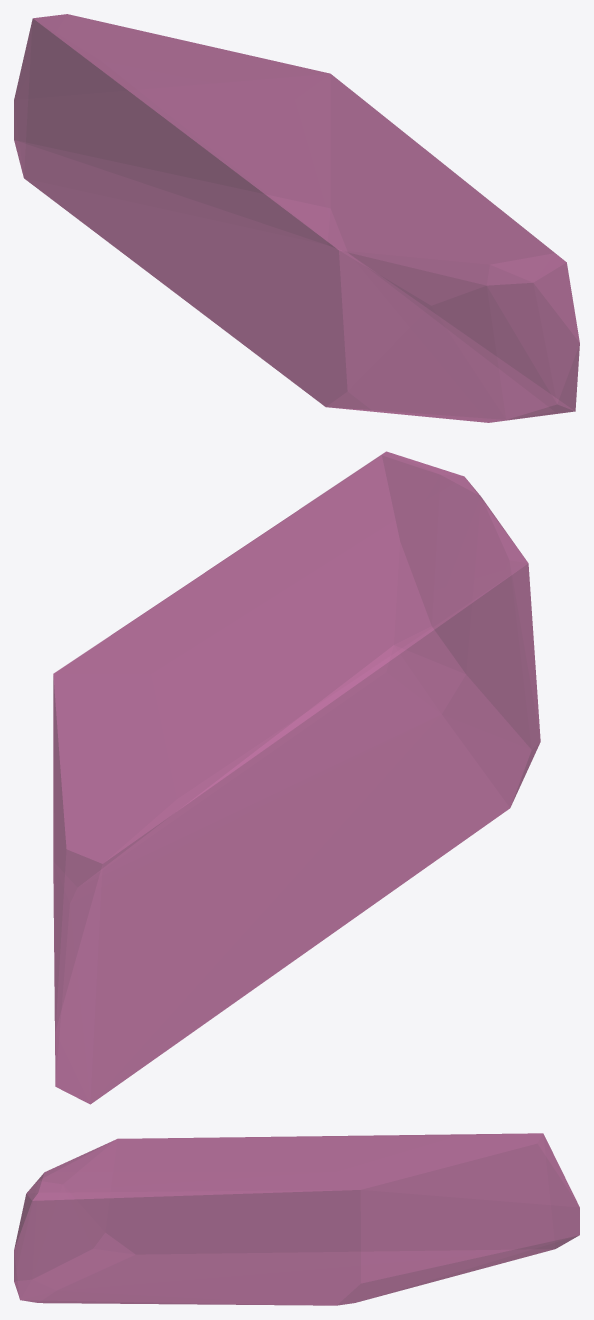
3 views of the same model, one above another, from view 1: azimuth 30°, elevation 25°; view 2: azimuth 150°, elevation 25°; view 3: azimuth 270°, elevation 25° (orthographic). The views are drawn at different scales.
Visible parts, largest first — view 1: Shape_IndexedFaceSet.007_Shape_IndexedFaceSet.10112; view 2: Shape_IndexedFaceSet.007_Shape_IndexedFaceSet.10112; view 3: Shape_IndexedFaceSet.007_Shape_IndexedFaceSet.10112.
Part boxes in pixels (x1,y1,x2,y2): Shape_IndexedFaceSet.007_Shape_IndexedFaceSet.10112: (14, 14, 579, 422); Shape_IndexedFaceSet.007_Shape_IndexedFaceSet.10112: (53, 451, 540, 1104); Shape_IndexedFaceSet.007_Shape_IndexedFaceSet.10112: (14, 1133, 579, 1305).
Size of the model in its own units: 0.00804 by 0.00803 by 0.034.
